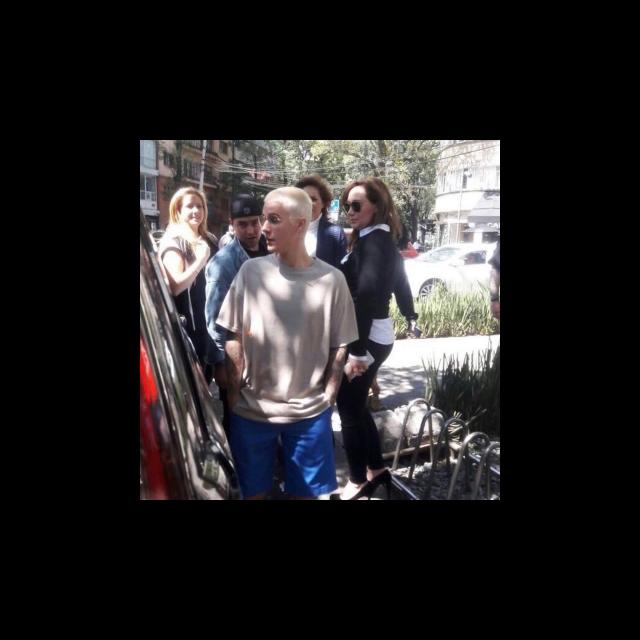head: (261, 186, 313, 254), (228, 194, 264, 248), (346, 181, 386, 229), (296, 182, 328, 222), (176, 190, 206, 226), (416, 240, 420, 244)
person: (201, 189, 293, 487), (274, 170, 354, 454), (152, 183, 228, 467), (413, 238, 423, 262)
